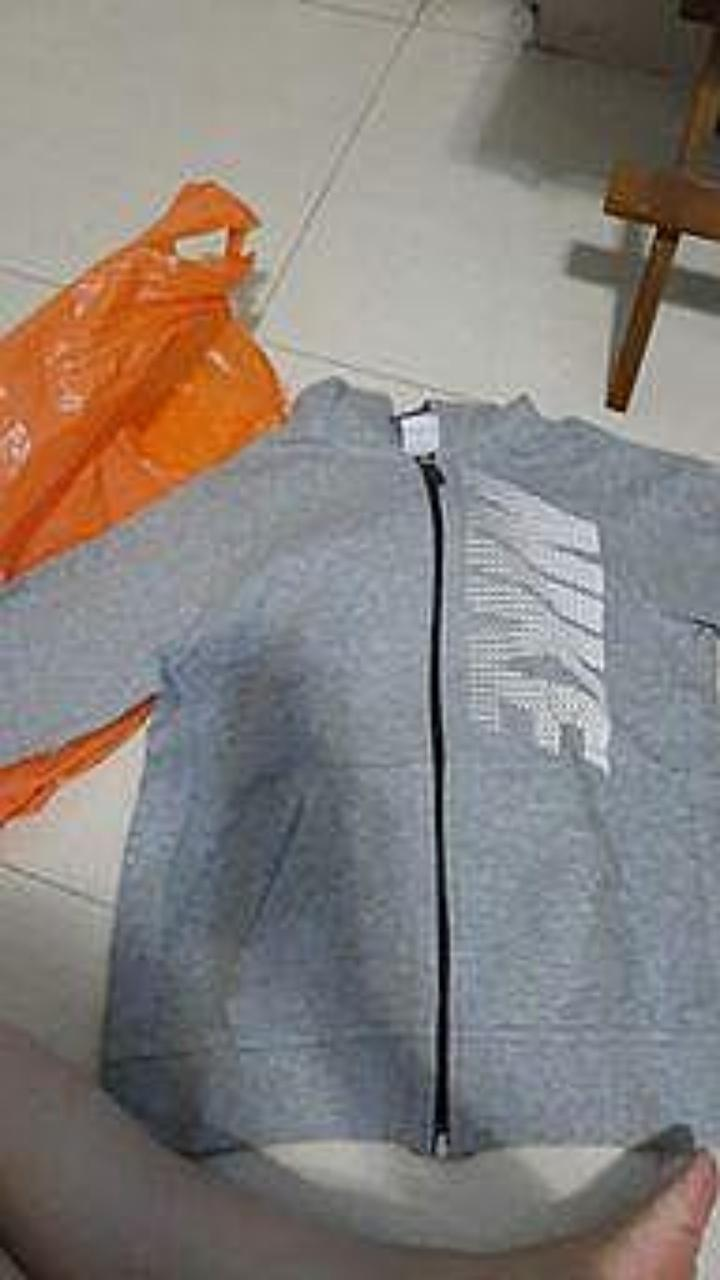Sports_Jacket: (0, 378, 719, 1155)
